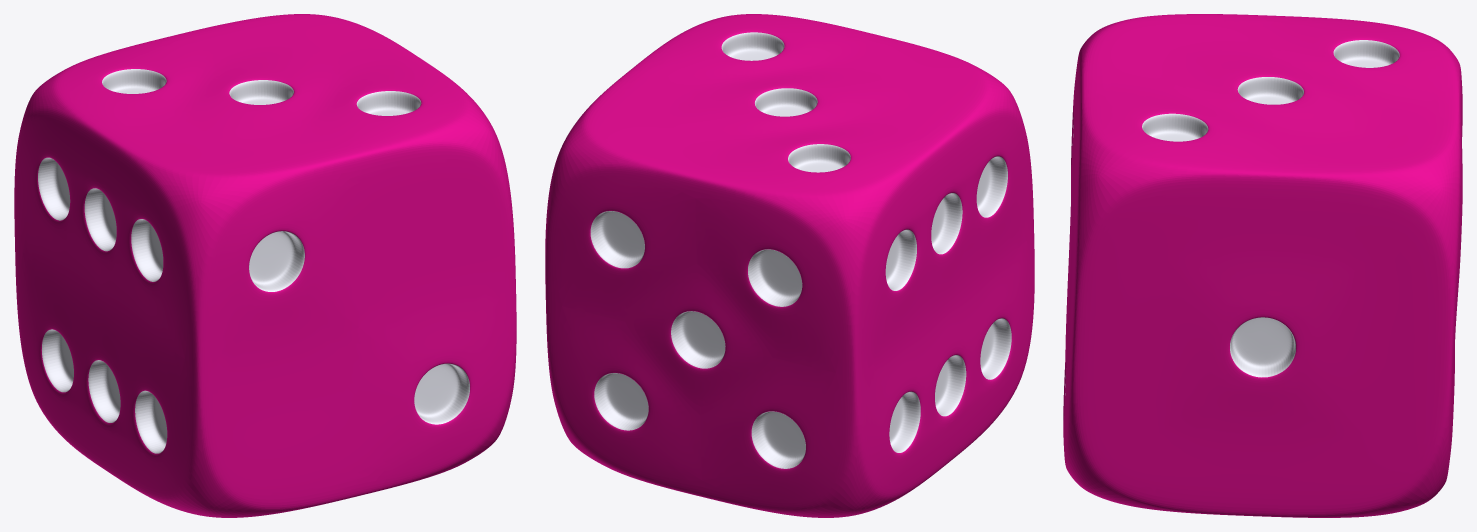
File: koyu pembe zar.fbx
3 views of the same model, side by side, from view 1: azimuth 30°, elevation 25°; view 2: azimuth 150°, elevation 25°; view 3: azimuth 270°, elevation 25° (orthographic). The views are drawn at different scales.
Parts seen in each view (by area): view 1: Perfect Dice.002; view 2: Perfect Dice.002; view 3: Perfect Dice.002.
Part boxes in pixels (x1,y1,x2,y2): Perfect Dice.002: (14, 14, 516, 517); Perfect Dice.002: (545, 14, 1034, 517); Perfect Dice.002: (1063, 14, 1462, 517).
Bounding box in the file's own units: 19.53 × 20.08 × 20.08.
